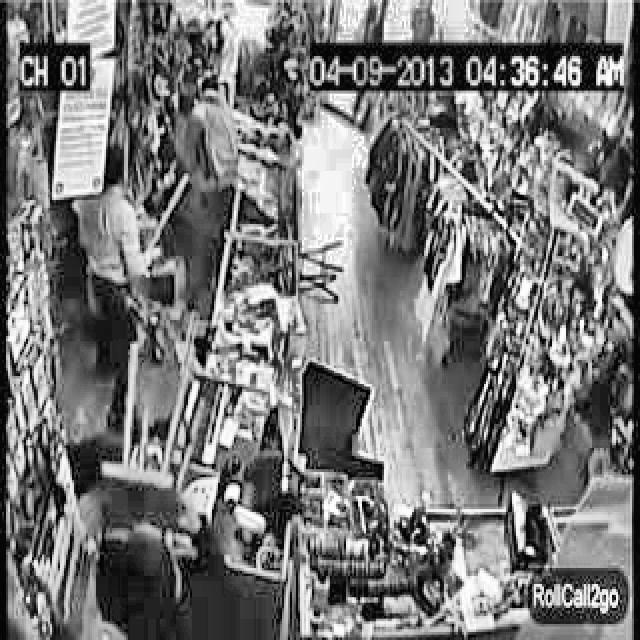robbery: (90, 81, 242, 322)
